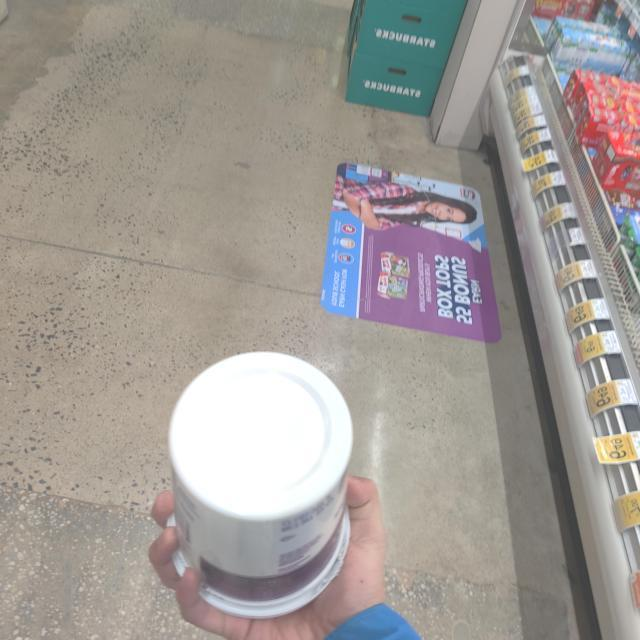Yoghurt: (164, 350, 346, 614)
